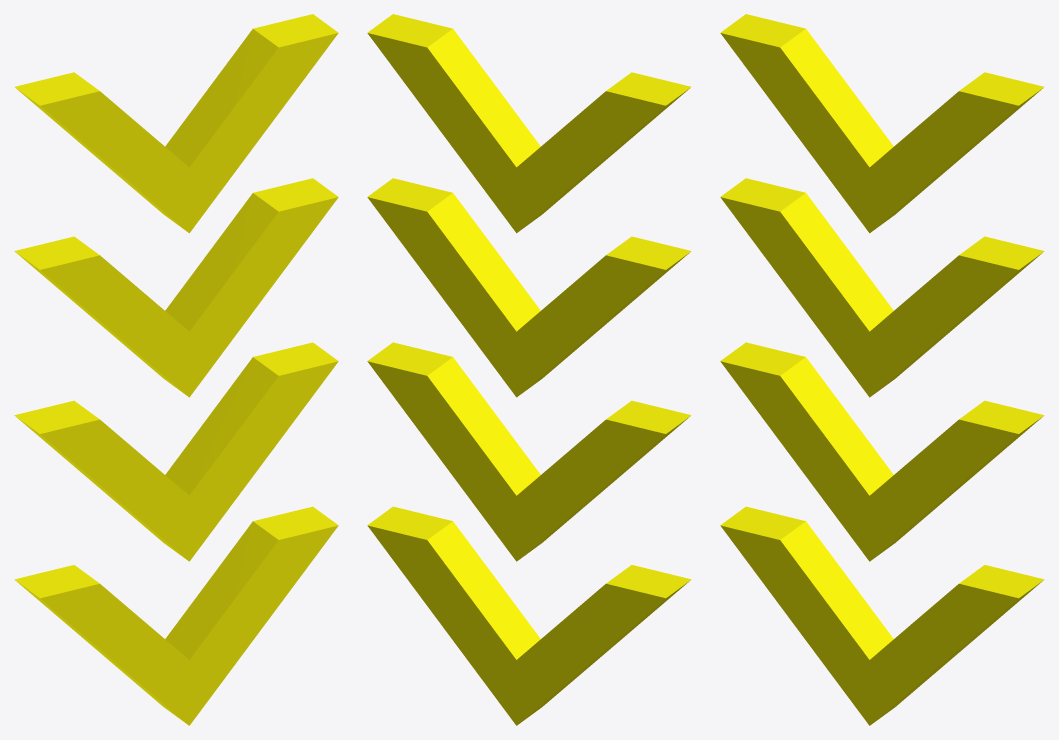
The model's file is ArrowsF.fbx.
The picture shows the model from 3 angles, left to right: view 1: azimuth 30°, elevation 25°; view 2: azimuth 150°, elevation 25°; view 3: azimuth 330°, elevation 25°; orthographic projection.
Parts seen in each view (by area): view 1: Object.4, Object.2, Object.3, Object.1; view 2: Object.3, Object.4, Object.1, Object.2; view 3: Object.3, Object.4, Object.1, Object.2.
Part boxes in pixels (x1,y1,x2,y2): Object.4: [15, 14, 338, 233]; Object.2: [14, 342, 338, 561]; Object.3: [14, 178, 338, 397]; Object.1: [14, 506, 338, 725]; Object.3: [367, 178, 691, 397]; Object.4: [367, 14, 691, 233]; Object.1: [367, 506, 691, 725]; Object.2: [367, 342, 691, 561]; Object.3: [720, 178, 1044, 397]; Object.4: [720, 14, 1044, 233]; Object.1: [720, 506, 1044, 725]; Object.2: [720, 342, 1044, 561].
Bounding box in the file's own units: 200 × 420 × 29.92.
